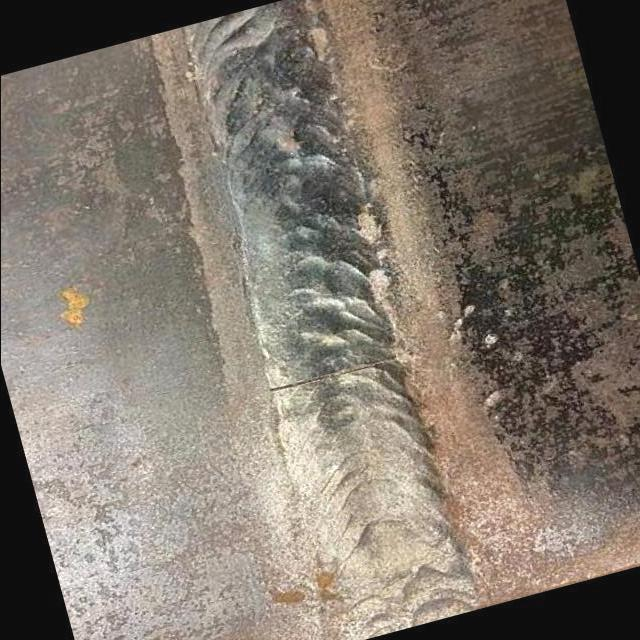defect: (262, 352, 398, 392)
